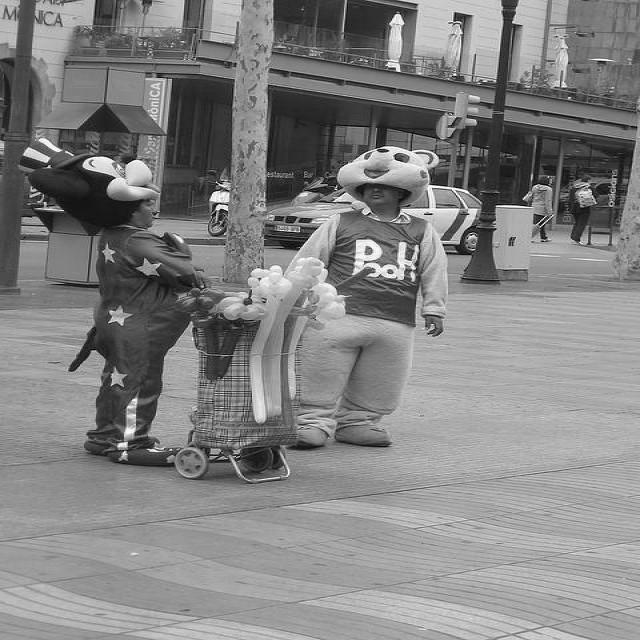vehicle: (262, 186, 482, 253), (0, 139, 40, 218), (199, 170, 231, 235), (559, 174, 615, 209), (292, 173, 340, 206), (290, 175, 344, 203)
